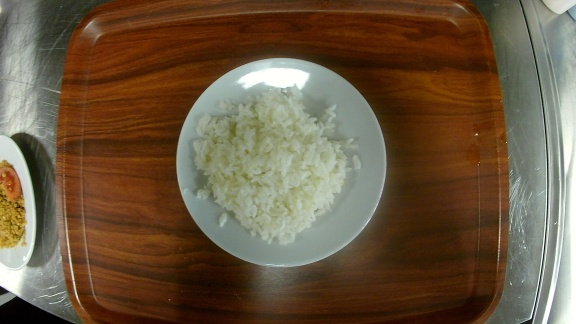pilav: (176, 58, 388, 266)
